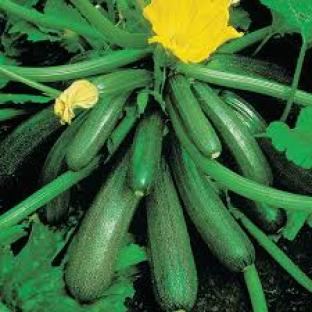Zucchini: (171, 141, 255, 271), (66, 154, 140, 300), (193, 82, 273, 185), (146, 159, 198, 310), (0, 107, 61, 189), (66, 93, 128, 170), (170, 75, 221, 158), (41, 113, 87, 185), (129, 110, 165, 195), (258, 138, 311, 195), (207, 53, 291, 84), (221, 91, 267, 134), (91, 70, 152, 97)
